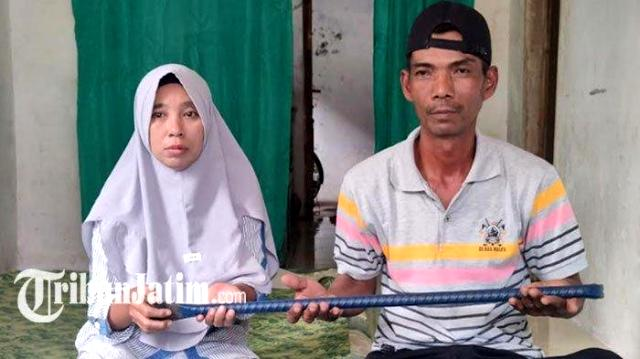crow bar: (150, 280, 608, 324)
